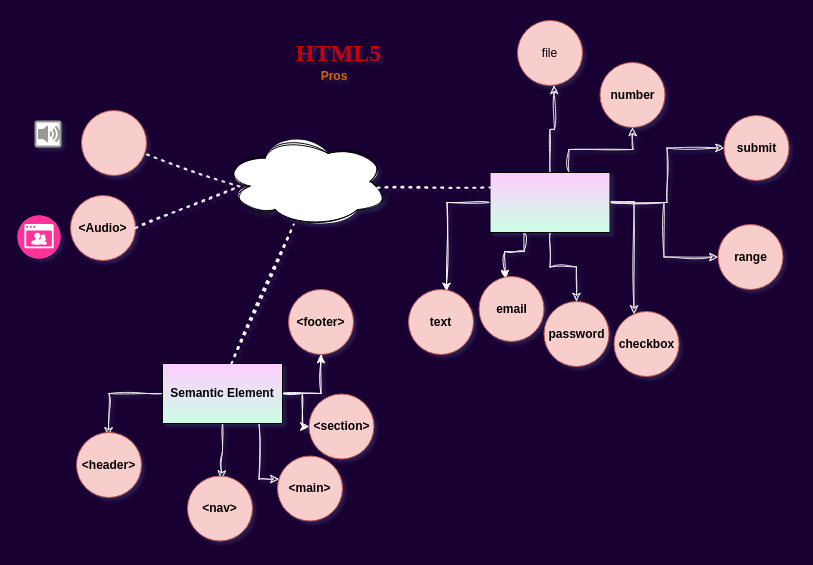
Some shapes in this 813 by 565 pixel diagram are drawn without their labels. Each missing label, with the centre of its shape:
<Video>: the point at 113,143
DOCTYPE: the point at 306,181
Input type: the point at 549,202
